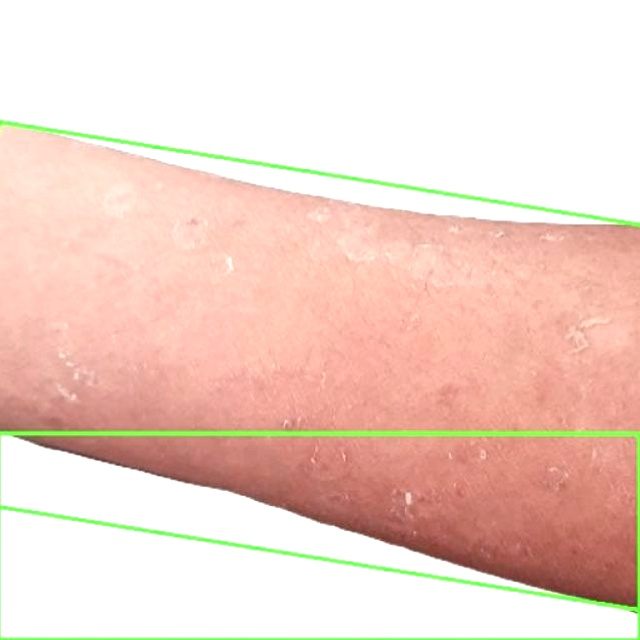Tinea Corporis: (0, 122, 639, 610), (0, 434, 639, 639)
